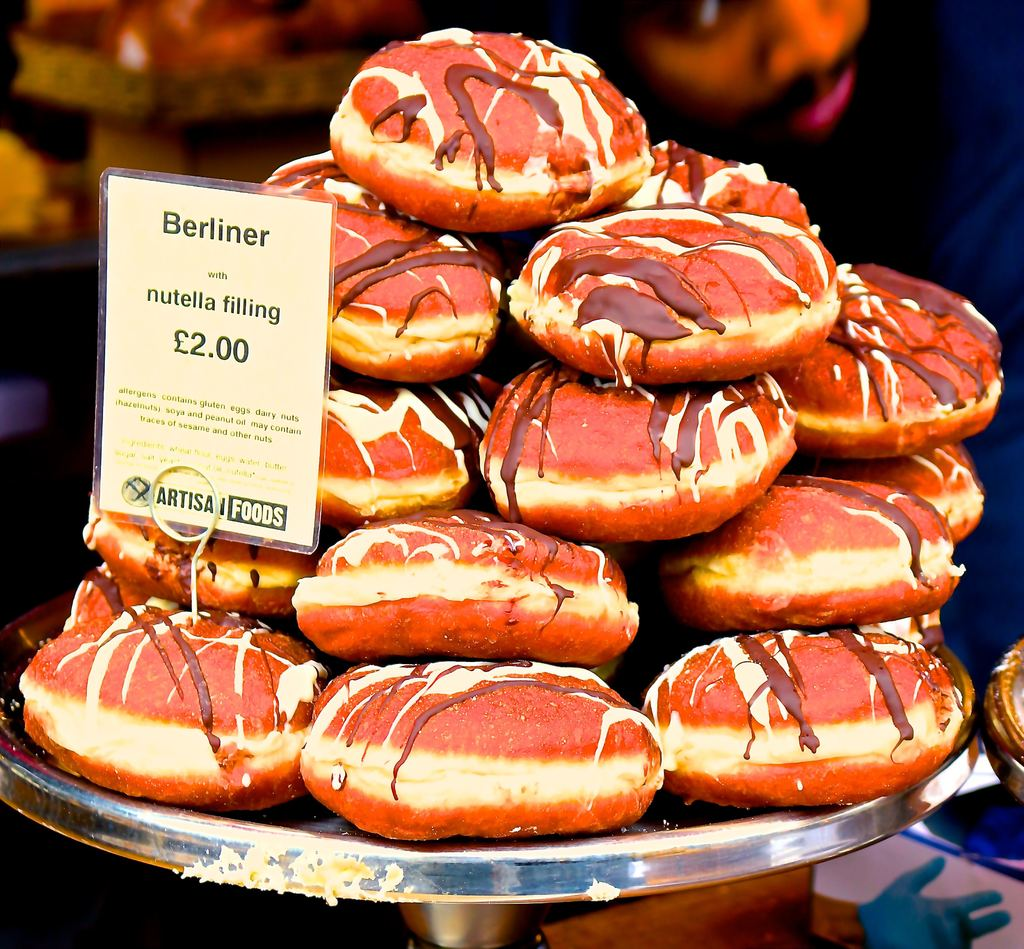face: (628, 0, 875, 154)
